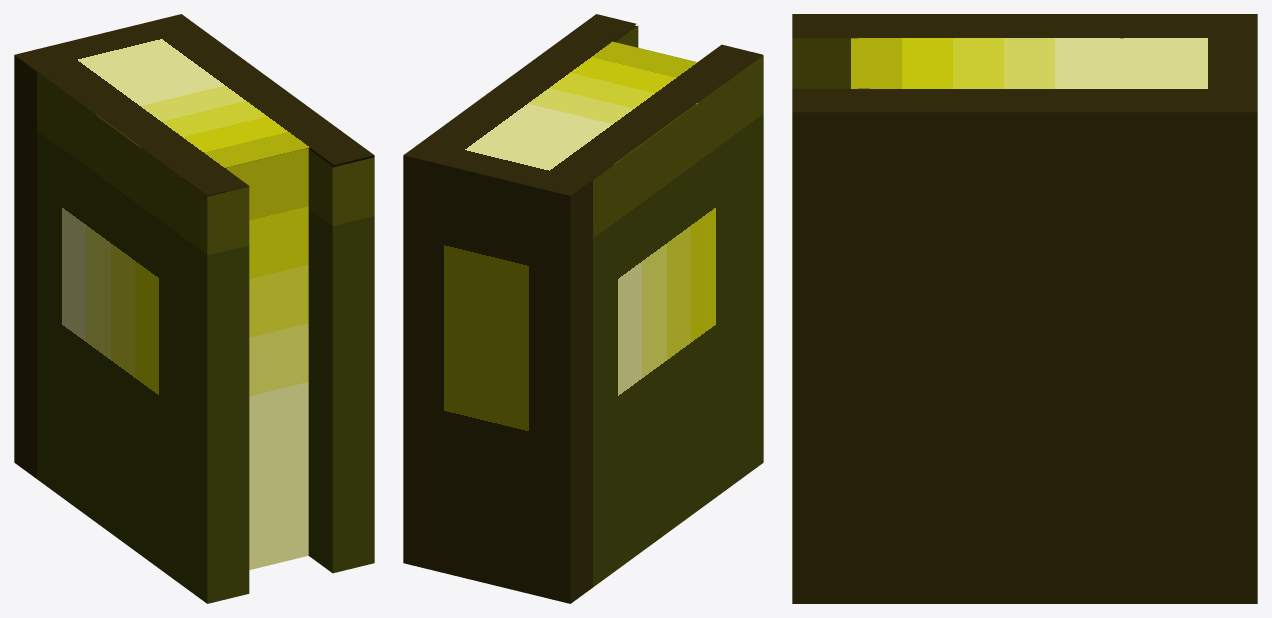
The model's file is book_0x282_02.obj.
3 views of the same model, side by side, from view 1: azimuth 30°, elevation 25°; view 2: azimuth 150°, elevation 25°; view 3: azimuth 270°, elevation 25° (orthographic). The views are drawn at different scales.
Visible parts, largest first — view 1: Cube; view 2: Cube; view 3: Cube.
Part boxes in pixels (x1,y1,x2,y2): Cube: [14, 14, 374, 603]; Cube: [403, 14, 763, 603]; Cube: [792, 14, 1257, 603].
Size of the model in its own units: 0.25 by 0.5833 by 0.5.
